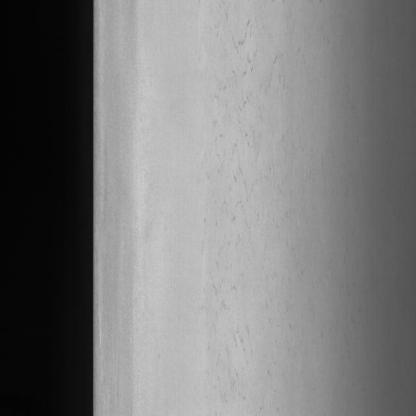silk_spot: (196, 0, 273, 398)
